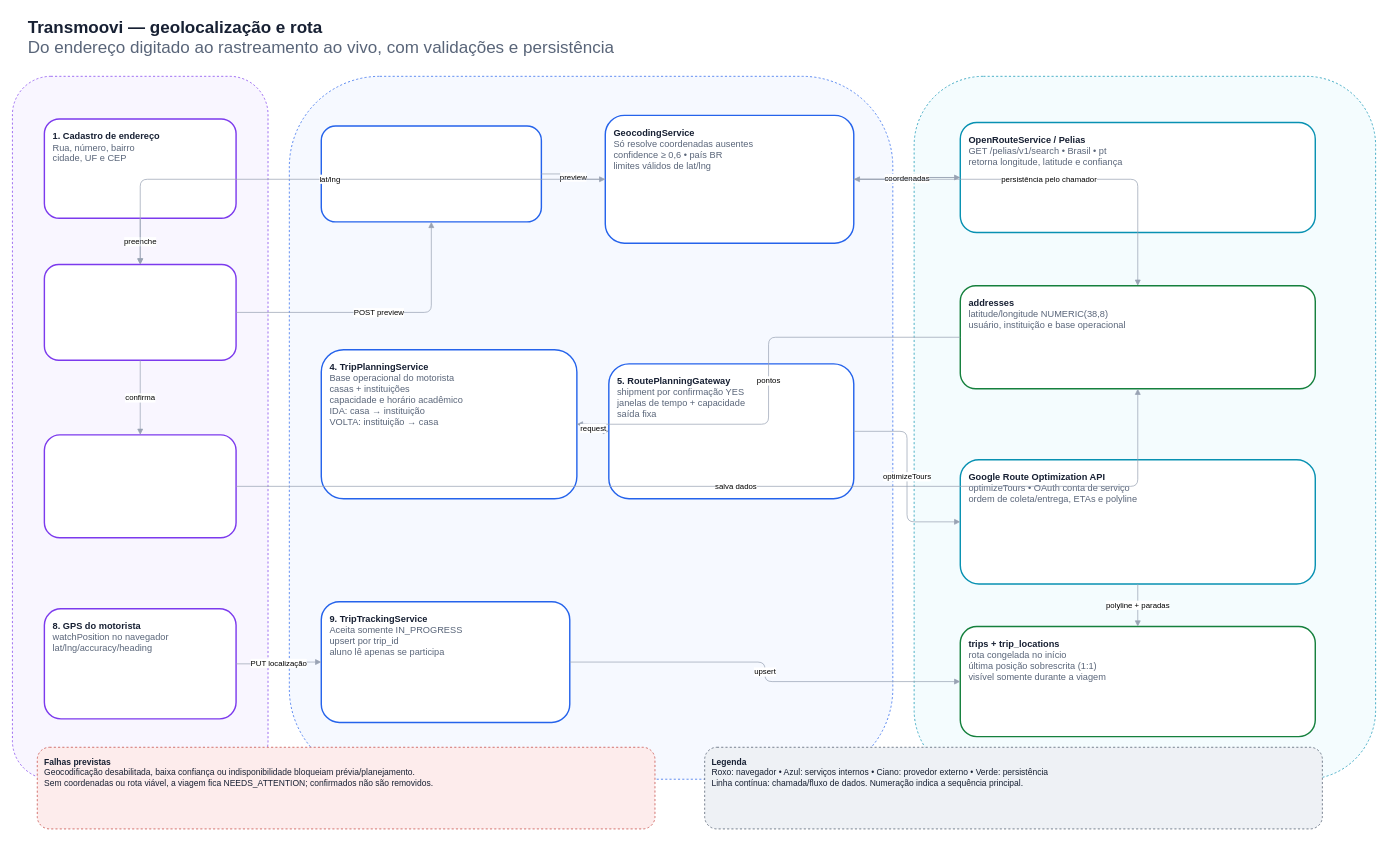
The diagram is 1388 pixels wide and 841 high, and some of its shapes have lost their labels. Each missing label, with the box of its shape:
2. Prévia no mapa POST /api/geocoding/preview AddressMap / Google Maps: (43, 263, 236, 361)
3. Salvar perfil Alteração textual limpa coordenadas antigas: (43, 434, 236, 538)
BACKEND: (289, 76, 893, 779)
CLIENTE: (12, 76, 268, 779)
GeocodingController Valida AddressRequest delega preview: (320, 125, 542, 222)
PROVEDORES E DADOS: (913, 76, 1376, 779)
